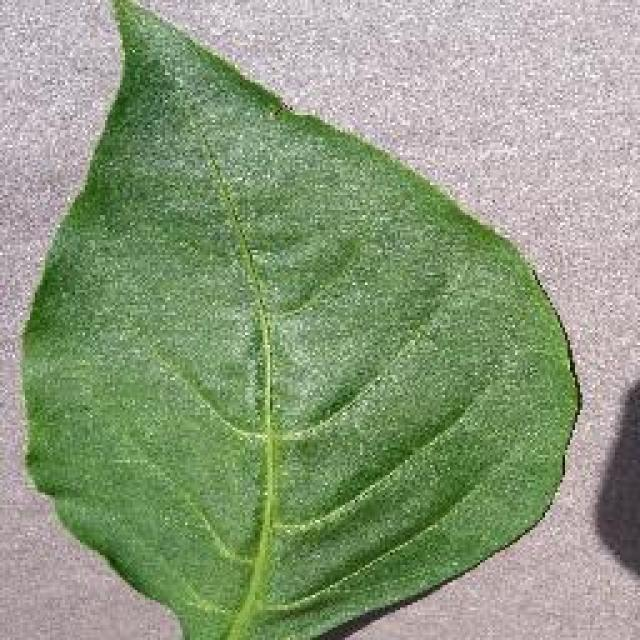Chilli_Healthy: (15, 0, 583, 638)
